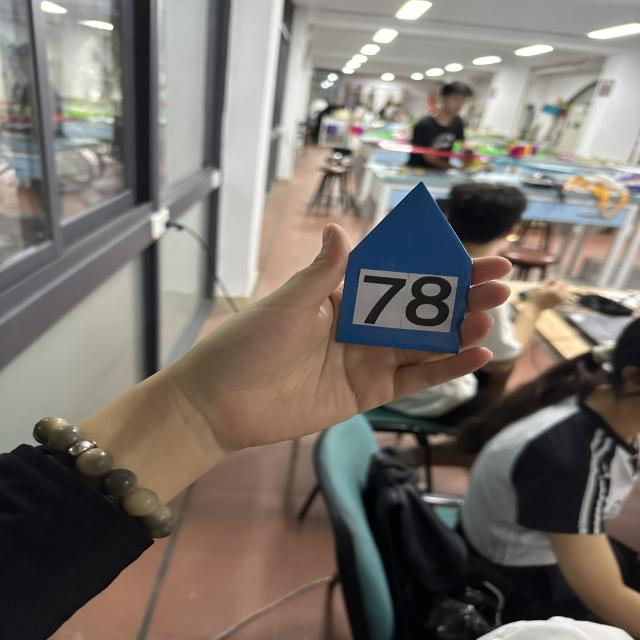board: (333, 182, 475, 357)
